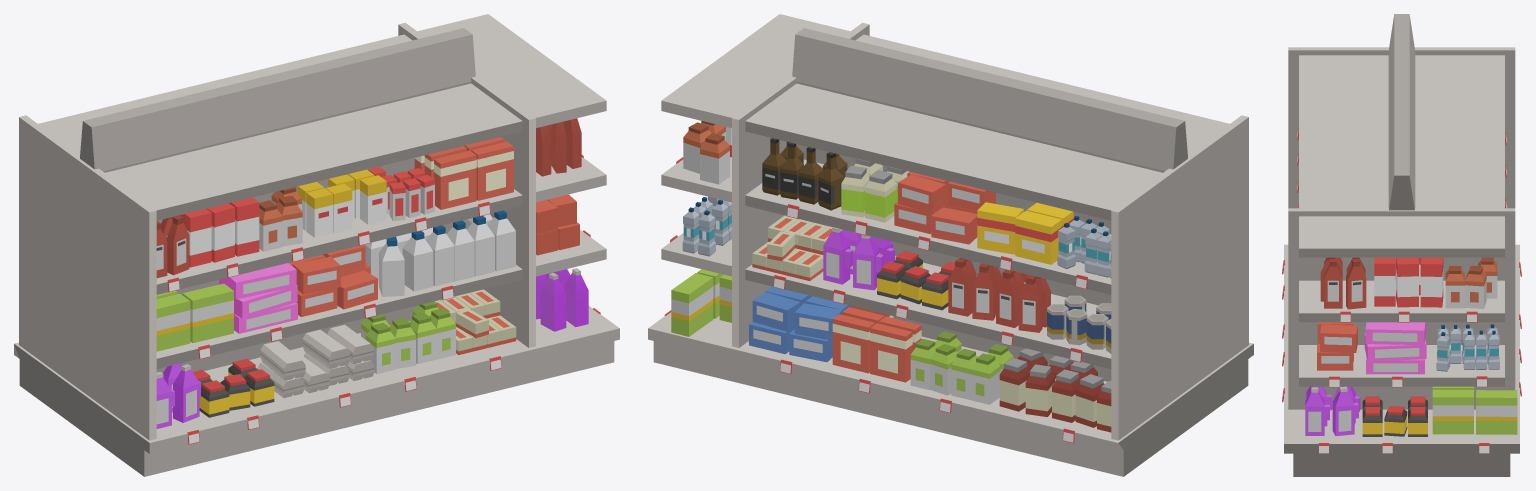
The model's file is ShelfIslePreset3.glb.
3 renders of one model, left to right at view 1: azimuth 30°, elevation 25°; view 2: azimuth 150°, elevation 25°; view 3: azimuth 270°, elevation 25°, orthographic. The views are drawn at different scales.
Parts seen in each view (by area): view 1: SI_Prop_Shelf_Isle_Preset_03, SI_Prop_Shelf_Isle_Preset_Items, SI_Prop_Shelf_Isle_Preset_Pricetags; view 2: SI_Prop_Shelf_Isle_Preset_03, SI_Prop_Shelf_Isle_Preset_Items, SI_Prop_Shelf_Isle_Preset_Pricetags; view 3: SI_Prop_Shelf_Isle_Preset_03, SI_Prop_Shelf_Isle_Preset_Items, SI_Prop_Shelf_Isle_Preset_Pricetags.
Part boxes in pixels (left/top/right/bottom): SI_Prop_Shelf_Isle_Preset_03: left=14, top=14, right=619, bottom=476; SI_Prop_Shelf_Isle_Preset_Items: left=156, top=118, right=588, bottom=428; SI_Prop_Shelf_Isle_Preset_Pricetags: left=167, top=155, right=600, bottom=444; SI_Prop_Shelf_Isle_Preset_03: left=648, top=14, right=1253, bottom=476; SI_Prop_Shelf_Isle_Preset_Items: left=671, top=121, right=1111, bottom=432; SI_Prop_Shelf_Isle_Preset_Pricetags: left=664, top=157, right=1087, bottom=443; SI_Prop_Shelf_Isle_Preset_03: left=1284, top=14, right=1519, bottom=476; SI_Prop_Shelf_Isle_Preset_Items: left=1305, top=257, right=1517, bottom=436; SI_Prop_Shelf_Isle_Preset_Pricetags: left=1282, top=126, right=1521, bottom=453.
Size of the model in its own units: 0.0691 by 0.0428 by 0.035.
1 material, 1 textured.
